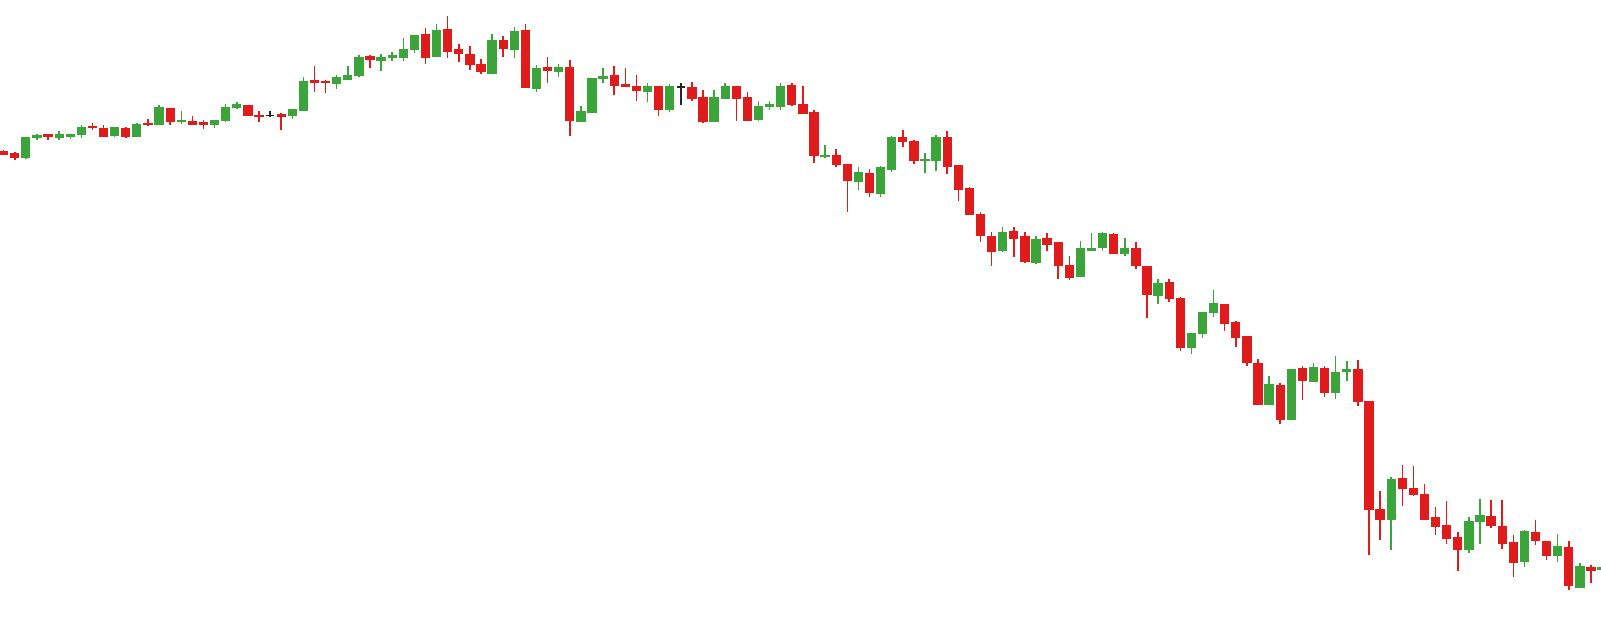buy: (1372, 505, 1474, 575)
